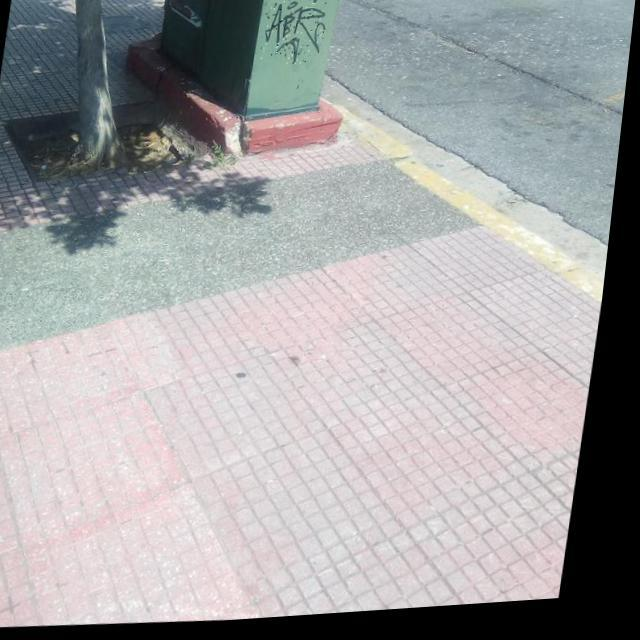-: (260, 0, 332, 70)
